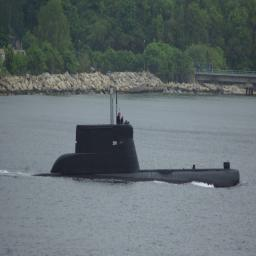submarine: (32, 126, 245, 178)
